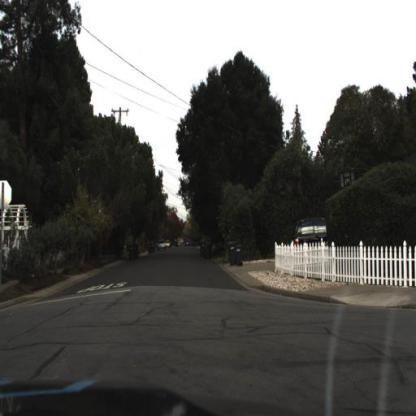car: (291, 214, 329, 253), (158, 240, 167, 250)
